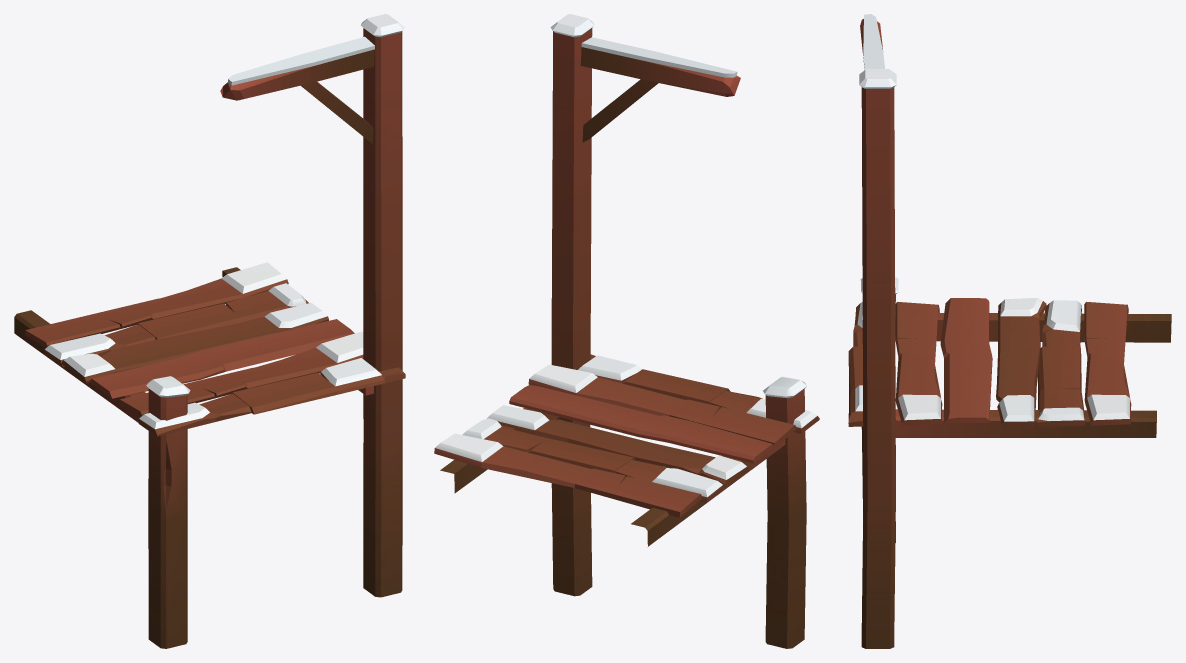
The picture shows the model from 3 angles, left to right: view 1: azimuth 30°, elevation 25°; view 2: azimuth 150°, elevation 25°; view 3: azimuth 270°, elevation 25°; orthographic projection.
Visible parts, largest first — view 1: SnowyPierPole; view 2: SnowyPierPole; view 3: SnowyPierPole.
Boxes of the visible parts, x1=… form: SnowyPierPole: x1=14, y1=14, x2=405, y2=648; SnowyPierPole: x1=434, y1=14, x2=819, y2=648; SnowyPierPole: x1=848, y1=14, x2=1171, y2=648.
Bounding box in the file's own units: 41.87 × 90 × 46.37.
Materials: 1 (1 with a texture image).
